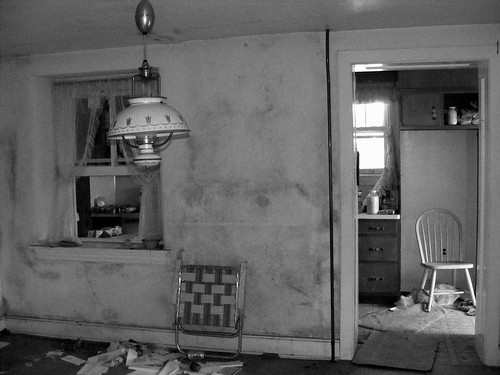chair: (408, 204, 483, 313)
door: (351, 64, 484, 360)
window: (48, 76, 164, 253)
